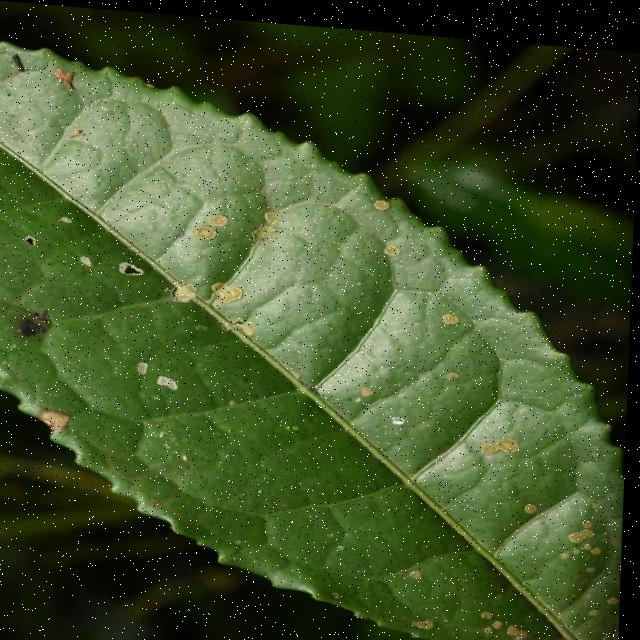Tea algae leaf spot: (12, 117, 539, 568)
